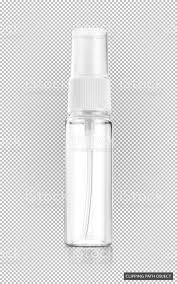available: (55, 24, 127, 250)
